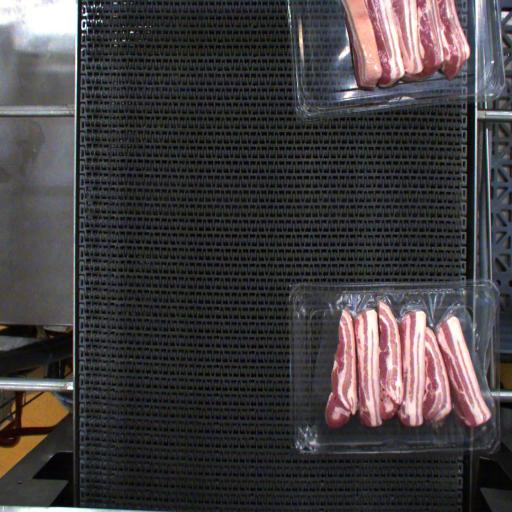unsealed: (314, 289, 496, 434)
